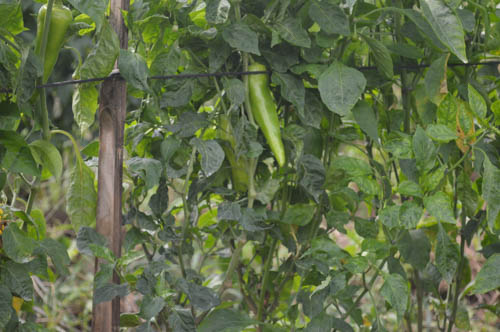ChiliPepper: (247, 66, 289, 163), (34, 6, 68, 80)
